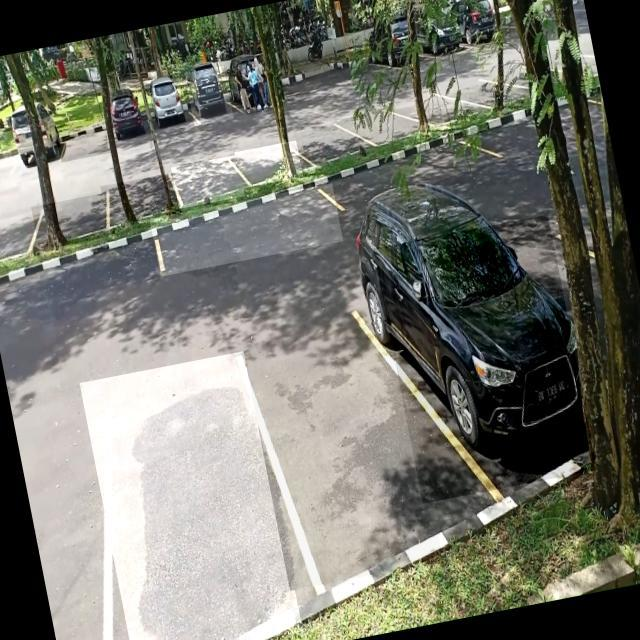empty: (80, 350, 303, 640), (244, 318, 444, 590), (150, 183, 343, 277), (30, 192, 116, 250), (100, 172, 182, 227), (171, 156, 245, 210), (295, 117, 365, 168), (234, 140, 304, 188), (54, 116, 111, 162)
occupied: (373, 214, 598, 504), (184, 66, 234, 126)
